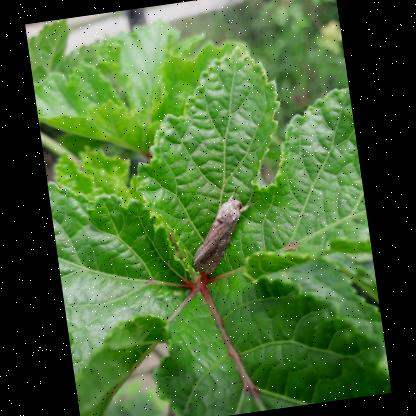Fall Armyworm Moth: (181, 181, 268, 277)
